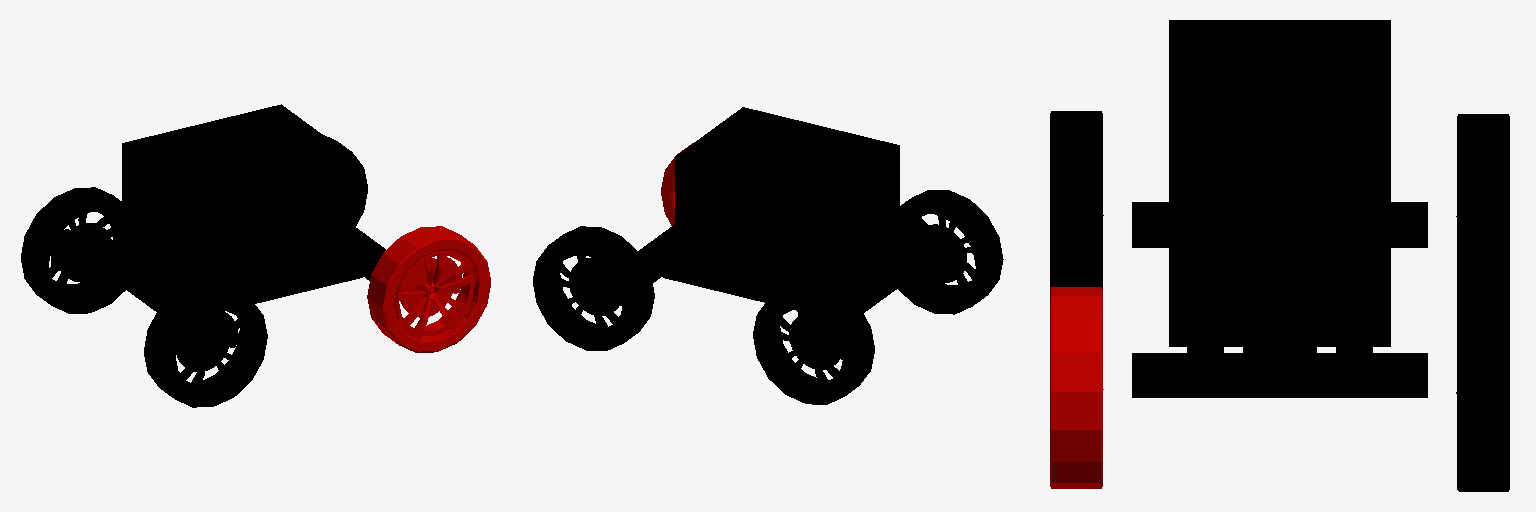
URDF robot description (hobbit):
<?xml version="1.0"?>
<!-- created with Phobos 1.0.1 "Capricious Choutengan" -->
<robot name="hobbit">

  <link name="base_link">
    <inertial>
      <origin xyz="0 0 0" rpy="0 0 0"/>
      <mass value="20.0"/>
      <inertia ixx="0.11534" ixy="0" ixz="0" iyy="0.05038" iyz="0" izz="0.03303"/>
    </inertial>
    <visual name="Body">
      <origin xyz="0 0 0" rpy="0 0 0"/>
      <geometry>
        <mesh filename="../meshes/dae/Cube.004.dae" scale="0.66667 0.5 0.5"/>
      </geometry>
      <material name="rubber.001"/>
    </visual>
  </link>

  <link name="fl_link">
    <inertial>
      <origin xyz="0 0 0" rpy="0 0 0"/>
      <mass value="1.0"/>
      <inertia ixx="0.001" ixy="0" ixz="0" iyy="0.001" iyz="0" izz="0.001"/>
    </inertial>
    <visual name="FrontLeft">
      <origin xyz="0 0 0" rpy="0 0 0"/>
      <geometry>
        <mesh filename="../meshes/dae/Circle.002.dae" scale="0.015 0.015 0.01"/>
      </geometry>
      <material name="rubber.001"/>
    </visual>
    <collision name="FrontLeft">
      <origin xyz="0.00161 0.00438 0.00609" rpy="0 0 0"/>
      <geometry>
        <cylinder radius="0.13644" length="0.07393"/>
      </geometry>
    </collision>
  </link>

  <link name="fr_link">
    <inertial>
      <origin xyz="0 0 0" rpy="0 0 0"/>
      <mass value="1.0"/>
      <inertia ixx="0.001" ixy="0" ixz="0" iyy="0.001" iyz="0" izz="0.001"/>
    </inertial>
    <visual name="FrontRight">
      <origin xyz="0 0 0" rpy="0 0 0"/>
      <geometry>
        <mesh filename="../meshes/dae/Circle.001.dae" scale="0.015 0.015 0.01"/>
      </geometry>
      <material name="rim.002"/>
    </visual>
    <collision name="FrontRight">
      <origin xyz="0.00161 0.00438 0.00609" rpy="0 0 0"/>
      <geometry>
        <cylinder radius="0.13644" length="0.07393"/>
      </geometry>
    </collision>
  </link>

  <link name="rl_link">
    <inertial>
      <origin xyz="0 0 0" rpy="0 0 0"/>
      <mass value="1.0"/>
      <inertia ixx="0.001" ixy="0" ixz="0" iyy="0.001" iyz="0" izz="0.001"/>
    </inertial>
    <visual name="RearLeft">
      <origin xyz="0 0 0" rpy="0 0 0"/>
      <geometry>
        <mesh filename="../meshes/dae/Circle.023.dae" scale="0.015 0.015 0.01"/>
      </geometry>
      <material name="rubber.001"/>
    </visual>
    <collision name="RearLeft">
      <origin xyz="0.00161 0.00438 0.00609" rpy="0 0 0"/>
      <geometry>
        <cylinder radius="0.13644" length="0.07393"/>
      </geometry>
    </collision>
  </link>

  <link name="rr_link">
    <inertial>
      <origin xyz="0 0 0" rpy="0 0 0"/>
      <mass value="1.0"/>
      <inertia ixx="0.001" ixy="0" ixz="0" iyy="0.001" iyz="0" izz="0.001"/>
    </inertial>
    <visual name="RearRight">
      <origin xyz="0 0 0" rpy="0 0 0"/>
      <geometry>
        <mesh filename="../meshes/dae/Circle.003.dae" scale="0.015 0.015 0.01"/>
      </geometry>
      <material name="rubber.001"/>
    </visual>
    <collision name="RearRight">
      <origin xyz="0.00161 0.00438 0.00609" rpy="0 0 0"/>
      <geometry>
        <cylinder radius="0.13644" length="0.07393"/>
      </geometry>
    </collision>
  </link>

  <joint name="fl_link" type="continuous">
    <origin xyz="0.33 0.28 -0.15" rpy="1.5708 1.5708 0"/>
    <parent link="base_link"/>
    <child link="fl_link"/>
    <axis xyz="0 0 1.0"/>
    <limit effort="5000.0" velocity="3.06"/>
  </joint>

  <joint name="fr_link" type="continuous">
    <origin xyz="0.33 -0.28 -0.15" rpy="-1.5708 1.5708 0"/>
    <parent link="base_link"/>
    <child link="fr_link"/>
    <axis xyz="0 0 1.0"/>
    <limit effort="5000.0" velocity="3.06"/>
  </joint>

  <joint name="rl_link" type="continuous">
    <origin xyz="-0.23 0.28 -0.15" rpy="1.5708 1.5708 0"/>
    <parent link="base_link"/>
    <child link="rl_link"/>
    <axis xyz="0 0 1.0"/>
    <limit effort="5000.0" velocity="3.06"/>
  </joint>

  <joint name="rr_link" type="continuous">
    <origin xyz="-0.23 -0.28 -0.15" rpy="-1.5708 1.5708 0"/>
    <parent link="base_link"/>
    <child link="rr_link"/>
    <axis xyz="0 0 1.0"/>
    <limit effort="5000.0" velocity="3.06"/>
  </joint>

  <material name="rim.002">
    <color rgba="0.7981 0.0218 0.00563 1.0"/>
  </material>

  <material name="rubber.001">
    <color rgba="0 0 0 1.0"/>
  </material>

</robot>

--- Facts derived from the render (not from the file) ---
Views: 3 orthographic renders of the robot side by side, from view 1: azimuth 30°, elevation 25°; view 2: azimuth 150°, elevation 25°; view 3: azimuth 270°, elevation 25°.
Robot: hobbit — 5 links, 4 joints (4 continuous); root link base_link; default pose: every joint at zero.
Links seen in each view (by area): view 1: base_link, fr_link, rr_link, rl_link, fl_link; view 2: base_link, fl_link, rl_link, rr_link, fr_link; view 3: base_link, fl_link, fr_link, rr_link, rl_link.
Link boxes in pixels (x1,y1,x2,y2): base_link: [94, 104, 385, 312]; fr_link: [367, 226, 490, 352]; rr_link: [144, 281, 267, 407]; rl_link: [21, 187, 125, 313]; fl_link: [324, 135, 367, 226]; base_link: [638, 107, 926, 312]; fl_link: [533, 226, 654, 350]; rl_link: [753, 280, 874, 404]; rr_link: [898, 190, 1003, 314]; fr_link: [661, 142, 694, 225]; base_link: [1132, 20, 1427, 397]; fl_link: [1456, 289, 1509, 491]; fr_link: [1050, 287, 1103, 488]; rr_link: [1050, 111, 1103, 288]; rl_link: [1456, 114, 1509, 290].
Bounding box of the posed robot: 0.8416 × 0.6217 × 0.4381 m (x, y, z).
5 mesh visuals loaded from 5 distinct referenced files (5 Collada DAE).